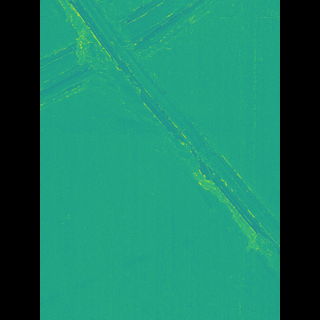Loch: (77, 0, 251, 286), (69, 0, 205, 112)
